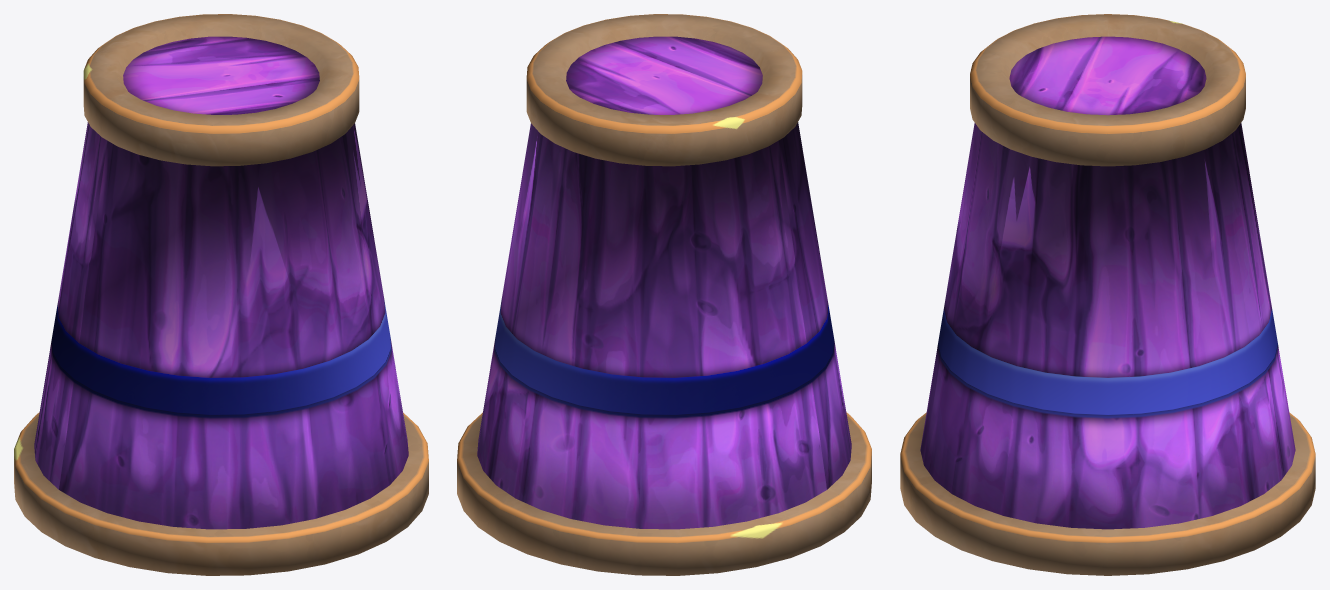
File: Cup_03.glb
The picture shows the model from 3 angles, left to right: view 1: azimuth 30°, elevation 25°; view 2: azimuth 150°, elevation 25°; view 3: azimuth 270°, elevation 25°; orthographic projection.
Parts seen in each view (by area): view 1: Cylinder; view 2: Cylinder; view 3: Cylinder.
Part boxes in pixels (box(x1,y1,x2,y2)): Cylinder: box(14, 14, 428, 575); Cylinder: box(457, 14, 871, 575); Cylinder: box(900, 14, 1315, 575).
Bounding box in the file's own units: 2.22 × 2.46 × 2.22.
1 material, 1 textured.
